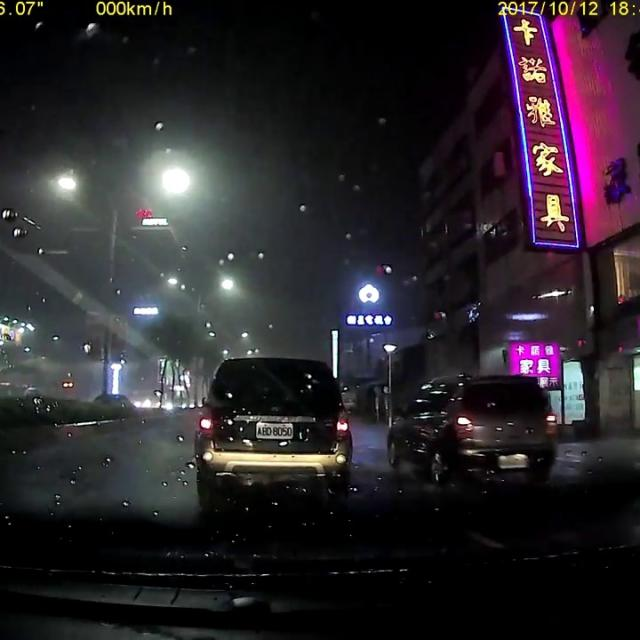Car: (194, 353, 353, 490), (381, 372, 559, 489), (91, 391, 129, 417)
